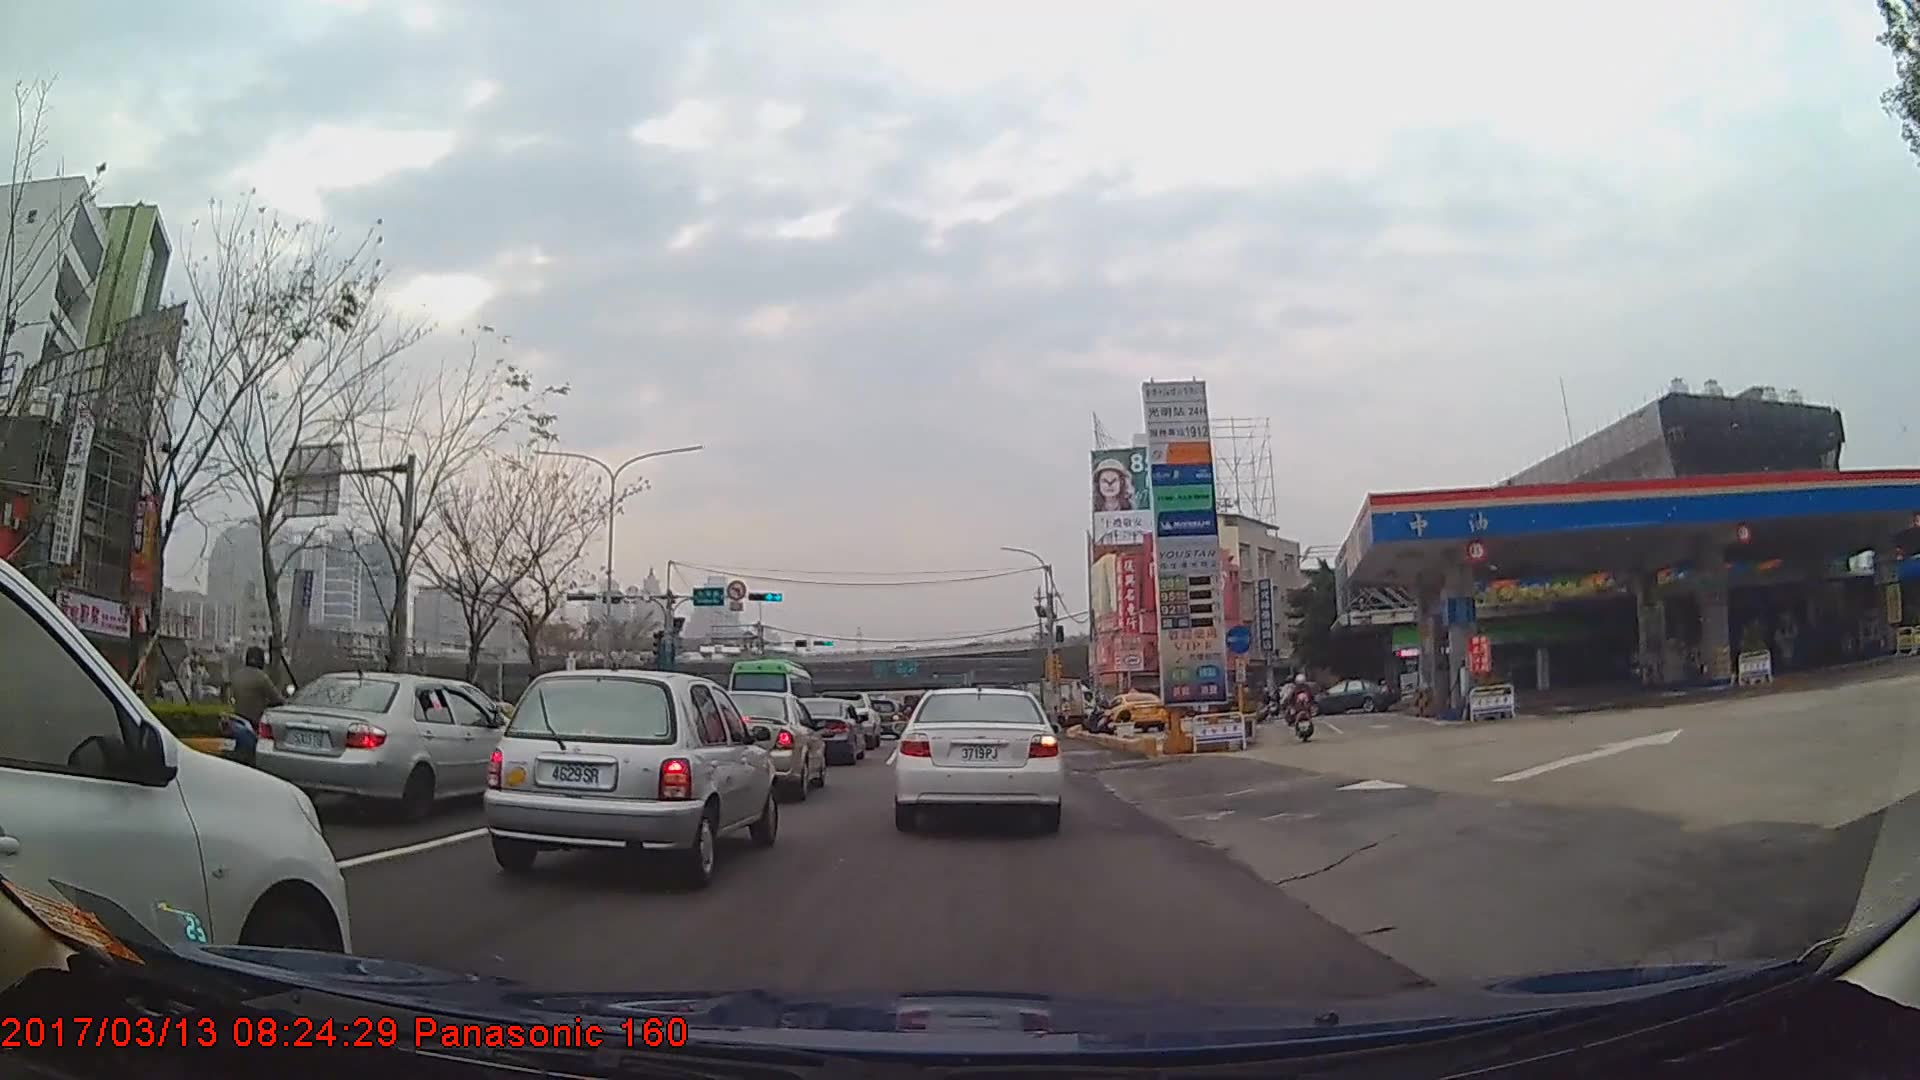rider: (218, 644, 301, 786), (1288, 677, 1317, 742), (1281, 674, 1304, 730)
vehicle: (0, 558, 354, 1012), (480, 666, 779, 885), (253, 673, 524, 822), (894, 685, 1062, 833), (694, 687, 827, 803), (726, 657, 818, 730), (784, 698, 866, 767), (1008, 685, 1099, 738), (1298, 678, 1396, 716), (1106, 692, 1166, 733)
